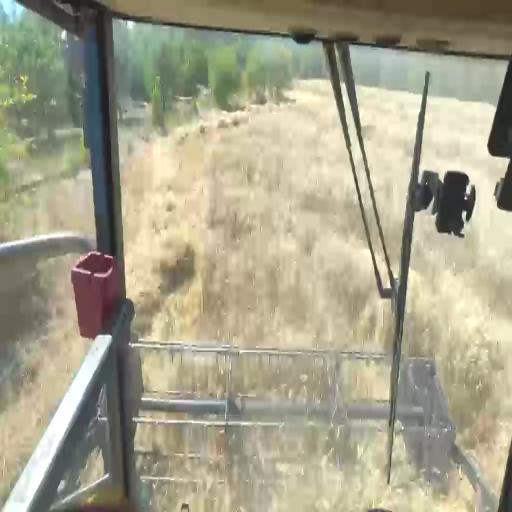arpa: (123, 80, 392, 350), (402, 212, 512, 457), (358, 87, 420, 271)
